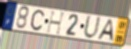2: (64, 14, 79, 38)
8: (15, 6, 30, 31)
A: (96, 19, 115, 43)
C: (29, 9, 45, 32)
H: (45, 10, 67, 36)
U: (82, 14, 102, 41)
